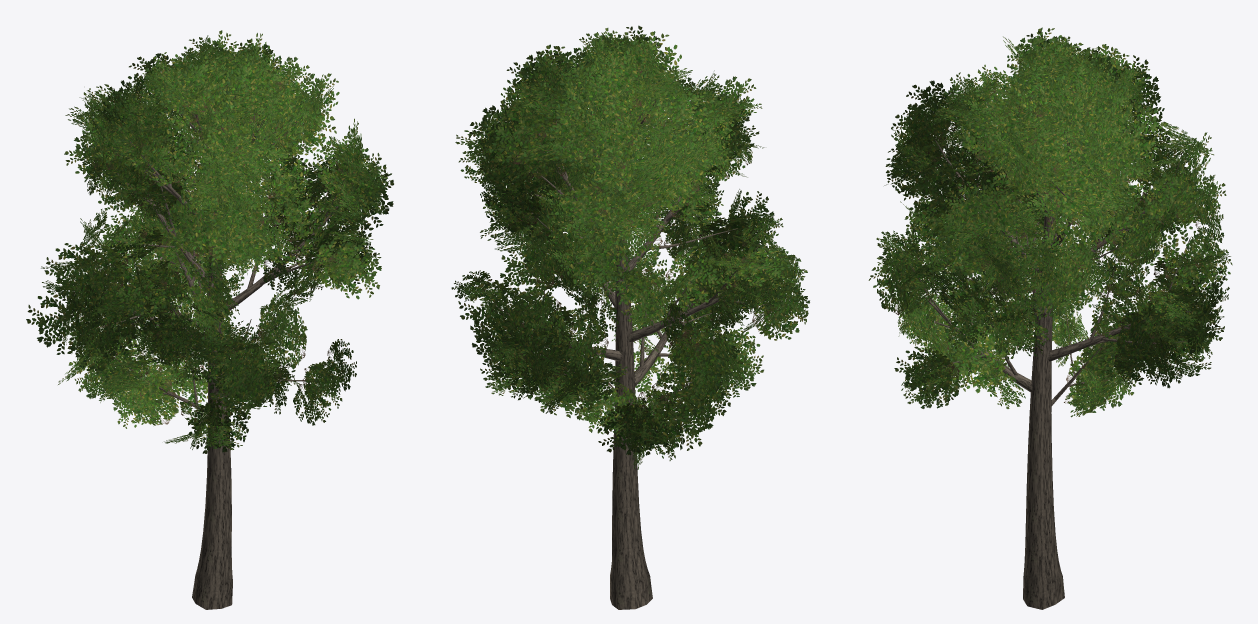
The model's file is Arbre.glb.
The picture shows the model from 3 angles, left to right: view 1: azimuth 30°, elevation 25°; view 2: azimuth 150°, elevation 25°; view 3: azimuth 270°, elevation 25°; orthographic projection.
Parts seen in each view (by area): view 1: Arbre; view 2: Arbre; view 3: Arbre.
Part boxes in pixels (box(x1,y1,x2,y2)): Arbre: box(26, 30, 393, 609); Arbre: box(451, 25, 809, 609); Arbre: box(868, 27, 1232, 609).
Bounding box in the file's own units: 8.11 × 12.64 × 7.89.
2 materials, 2 textured.
